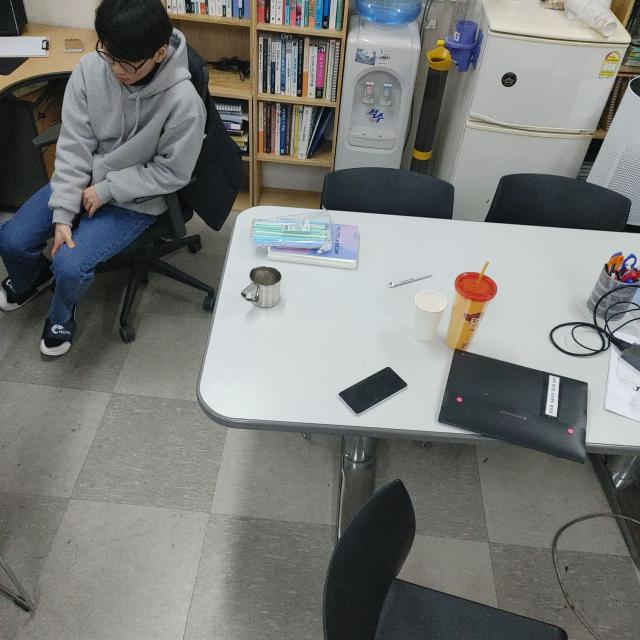cup: (240, 266, 285, 310)
phone: (336, 364, 408, 418)
